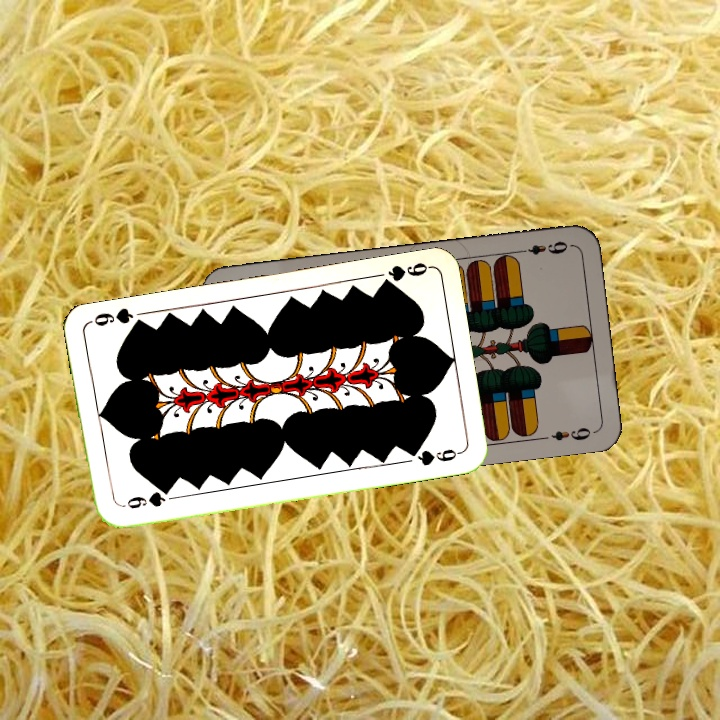E9: (514, 237, 573, 257)
G9: (375, 258, 432, 291), (117, 485, 173, 512)
